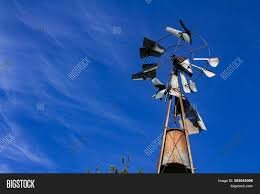faulty: (139, 17, 212, 110)
